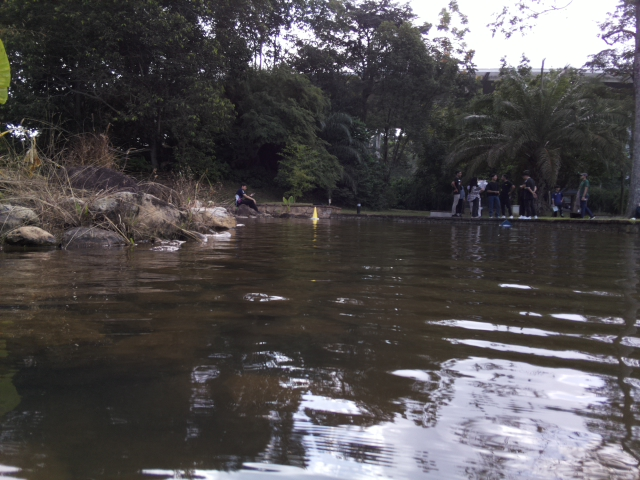checkpoint: (307, 205, 322, 221)
